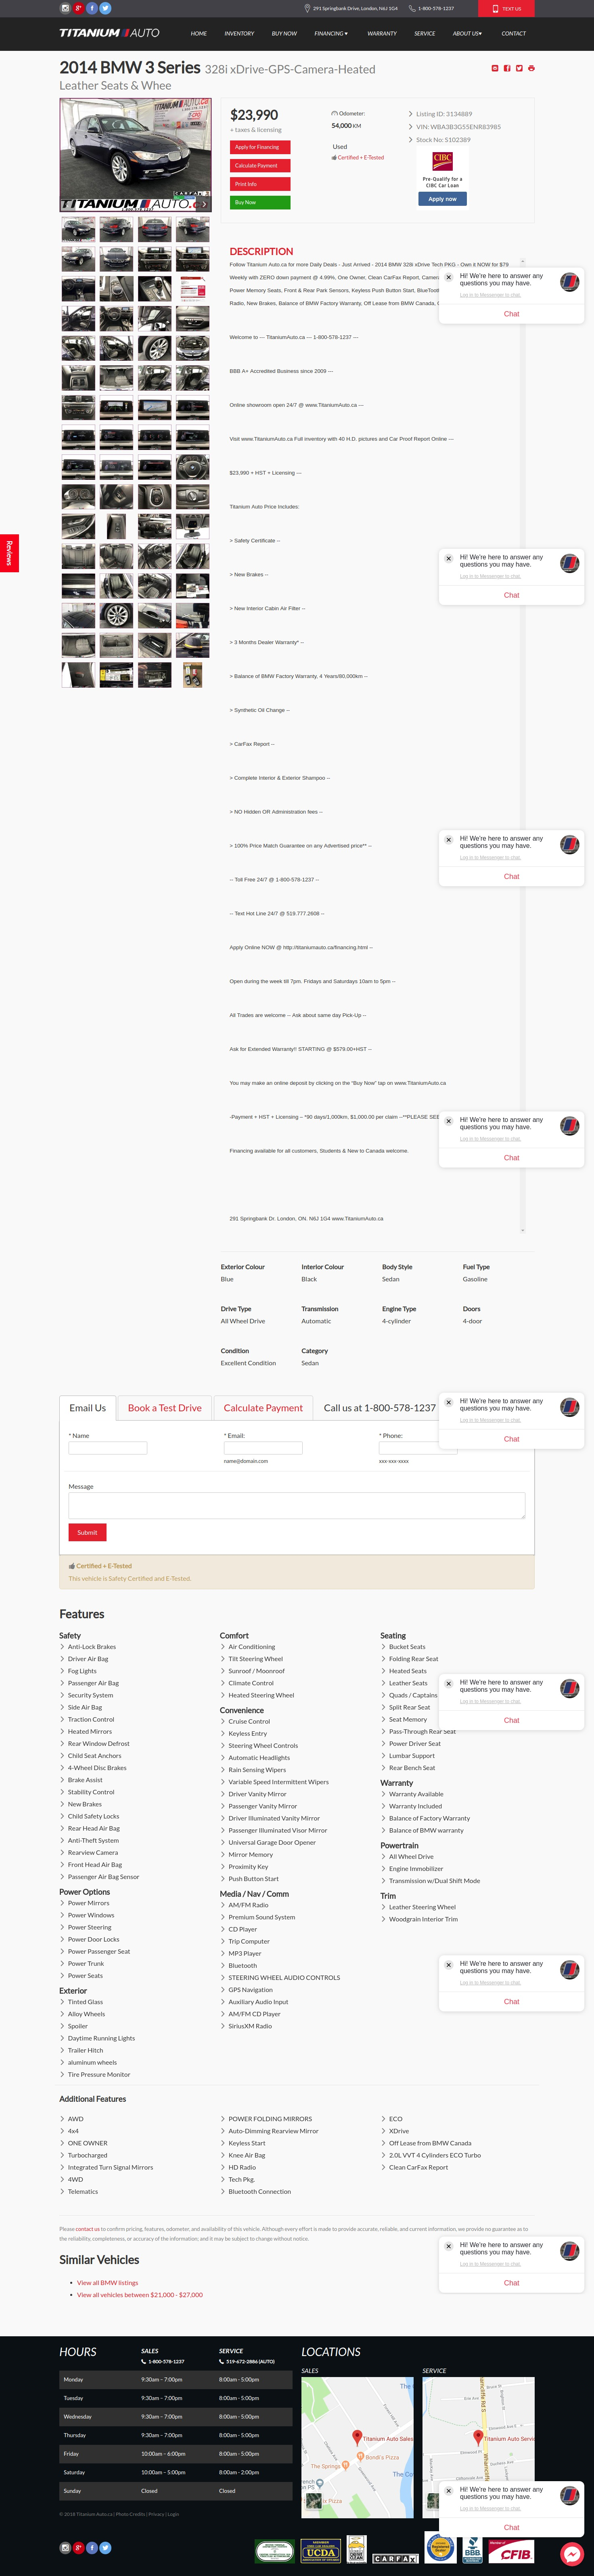car: (203, 202, 207, 209)
